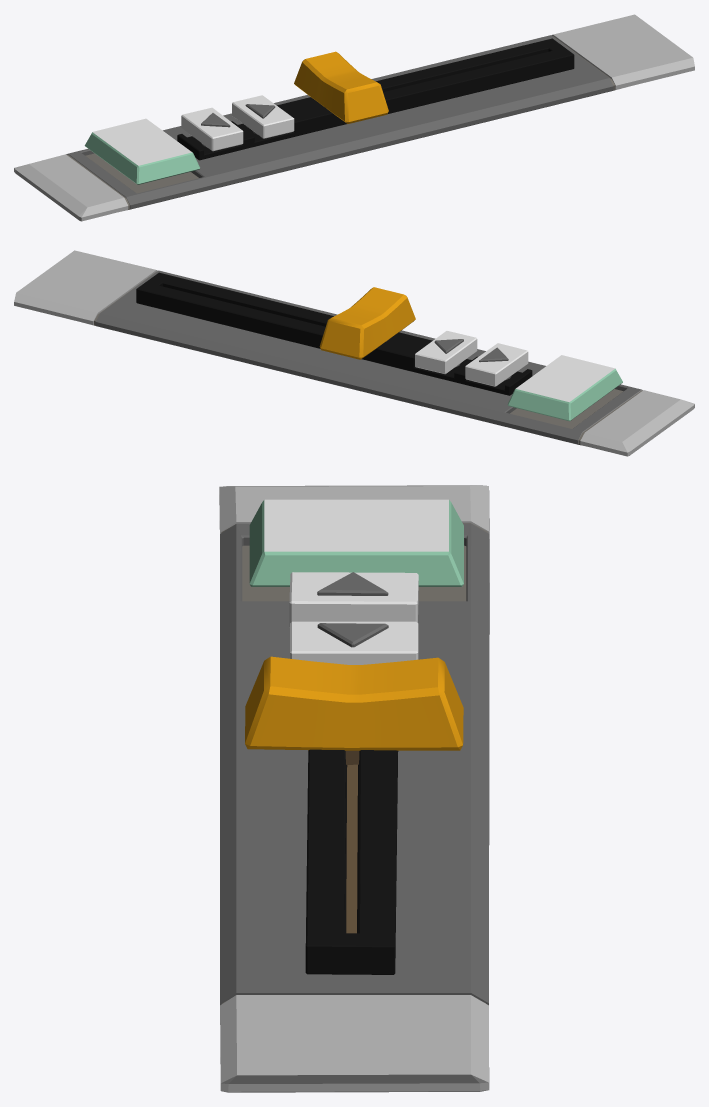
Rendered from Slider00.fbx.
3 renders of one model, top to bottom at view 1: azimuth 30°, elevation 25°; view 2: azimuth 150°, elevation 25°; view 3: azimuth 270°, elevation 25°, orthographic. The views are drawn at different scales.
Visible parts, largest first — view 1: Slider_BaseBar, Cube.301, Slider_Image, Slider_Knob, Slider_BottomArrow, Slider_TopArrow; view 2: Slider_BaseBar, Cube.301, Slider_Image, Slider_Knob, Slider_BottomArrow, Slider_TopArrow; view 3: Slider_BaseBar, Cube.301, Slider_Knob, Slider_Image, Slider_BottomArrow, Slider_TopArrow.
Part boxes in pixels (x1,y1,x2,y2): Slider_BaseBar: (14,14,694,221); Cube.301: (177,38,574,160); Slider_Image: (84,118,199,184); Slider_Knob: (294,51,388,123); Slider_BottomArrow: (181,107,243,151); Slider_TopArrow: (232,95,294,138); Slider_BaseBar: (14,250,694,456); Cube.301: (136,272,532,395); Slider_Image: (507,355,622,421); Slider_Knob: (319,287,415,359); Slider_BottomArrow: (465,343,528,386); Slider_TopArrow: (415,331,477,374); Slider_BaseBar: (219,485,489,1092); Cube.301: (305,749,398,974); Slider_Knob: (245,656,463,764); Slider_Image: (249,499,463,586); Slider_BottomArrow: (289,572,418,626); Slider_TopArrow: (290,621,418,664).
Bounding box in the file's own units: 0.483 × 0.0415 × 0.0917.
